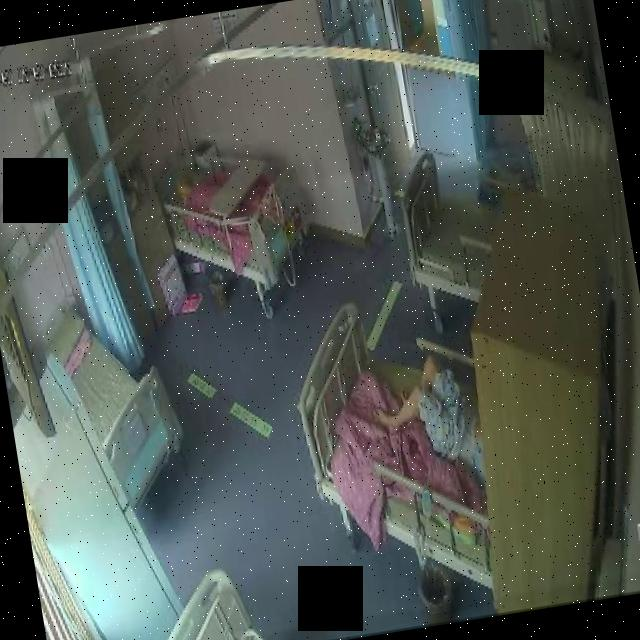bed: (290, 293, 504, 582), (44, 284, 190, 499), (152, 120, 317, 292), (391, 140, 508, 308)
lie: (364, 347, 490, 488)
patient: (364, 344, 492, 488), (172, 165, 208, 207)
